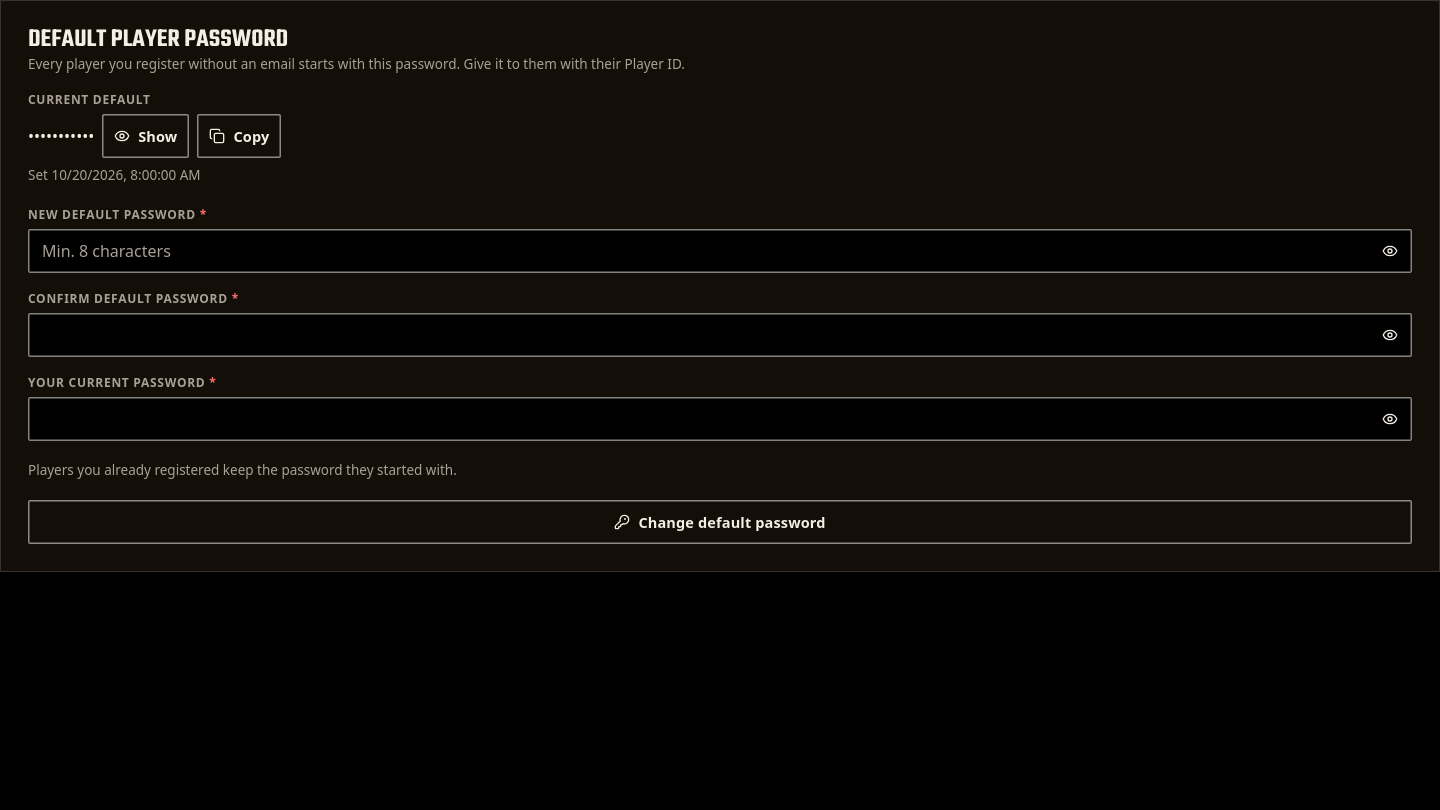
Scenario: PlayerDefaultPasswordSection › shows the saved default hidden, and reveals it on Show
The image size is (1440, 810).
Expected: the element with test id "player-default-password" does not show "Shivaji2026"
Click the 1st button named "Show" at (146, 136), box [102,114,189,158]
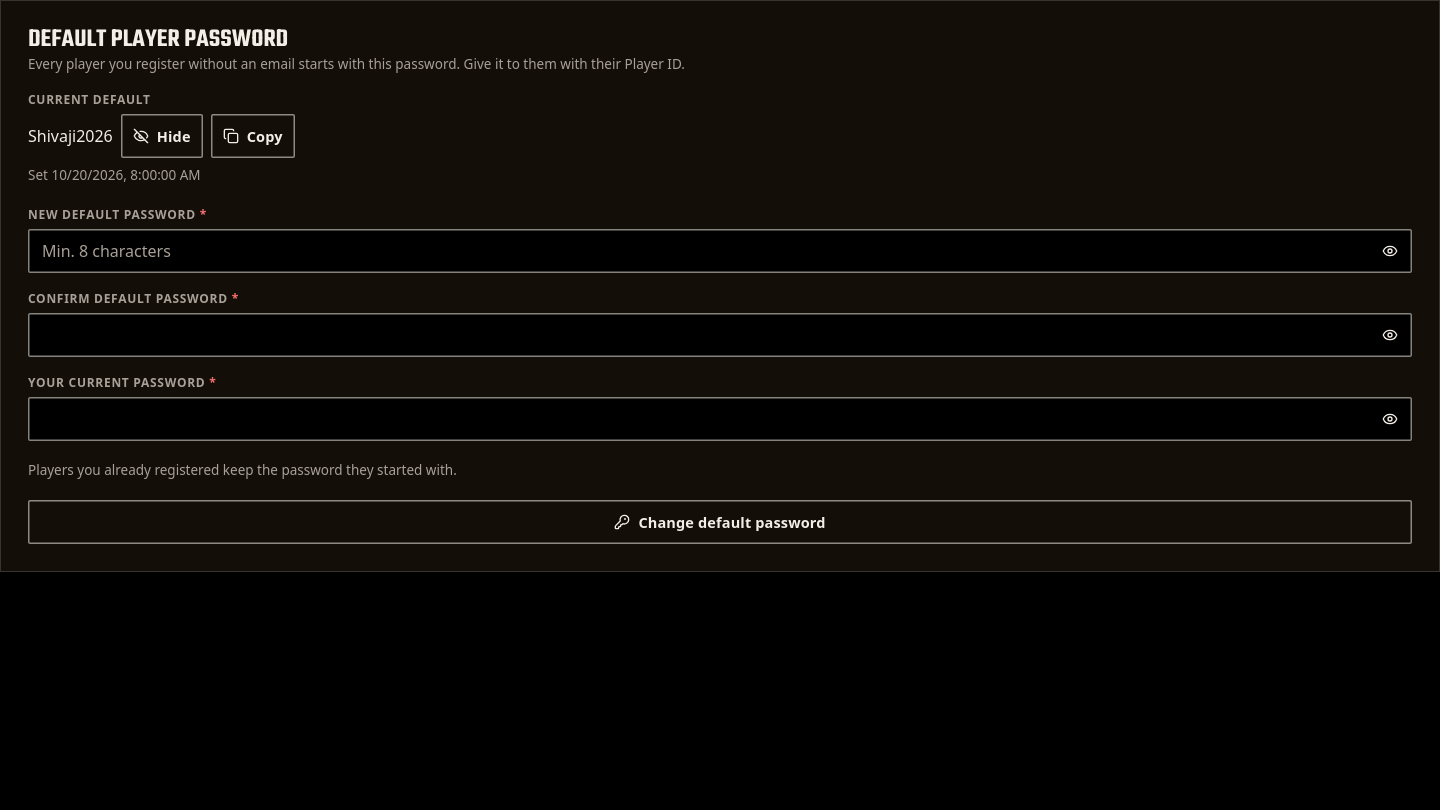
Result: the text with test id "player-default-password" reads "Shivaji2026" at [28,125,113,147]
